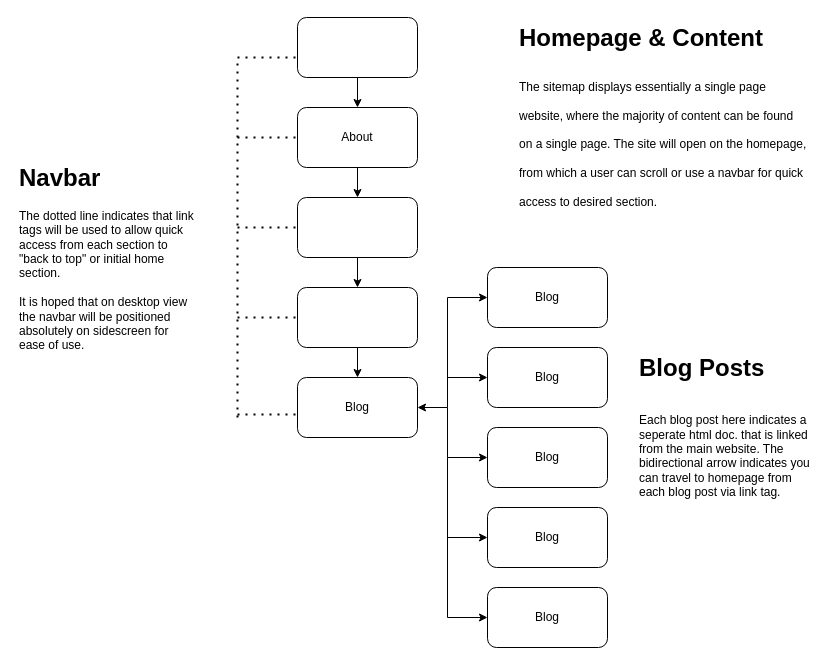
This 834x665 diagram has some shape labels left out. The shapes that lost their labels are listed below. From the top down, each one's centre as x and y in pixels, then its label:
At pixel 357 47: "Hompepage".
At pixel 357 227: "Career".
At pixel 357 317: "Experience".
